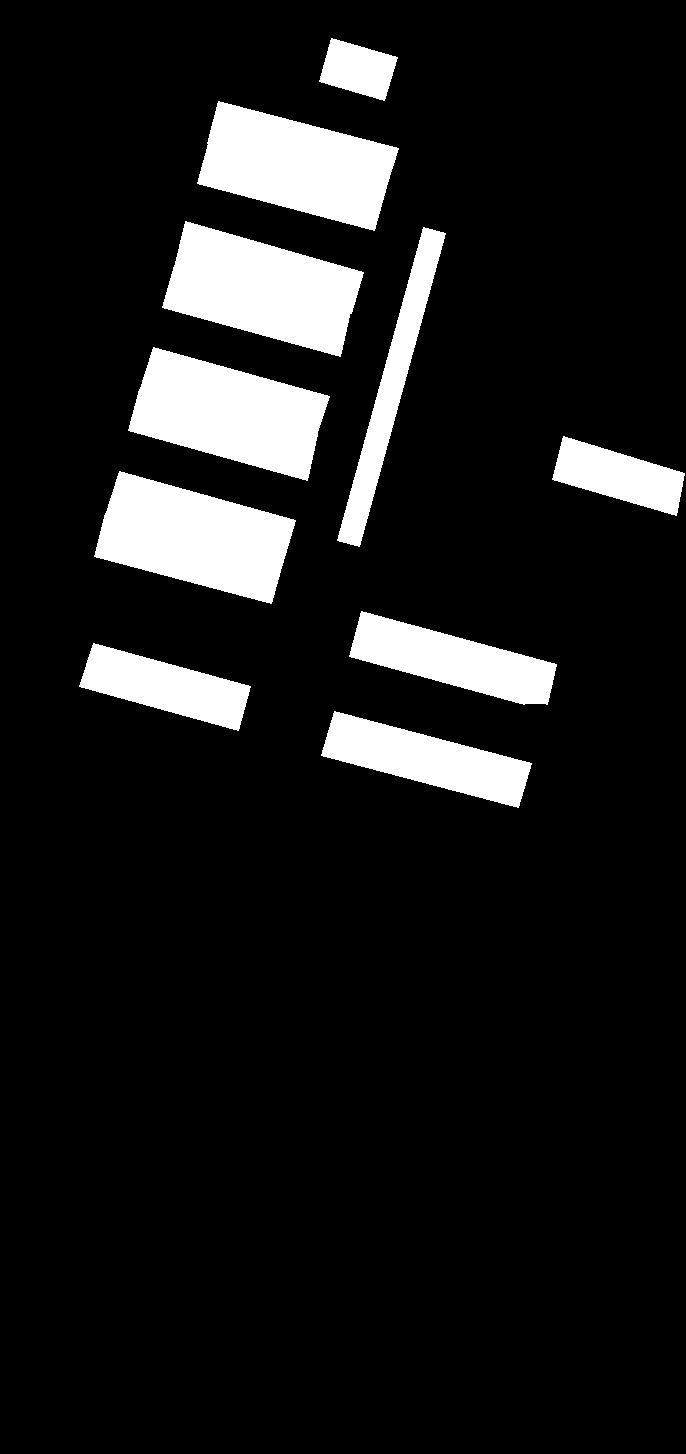parkingspot: (337, 227, 445, 546), (321, 711, 531, 807), (349, 611, 556, 704), (105, 471, 295, 564), (174, 221, 363, 314), (139, 347, 329, 438), (128, 389, 317, 480), (162, 265, 350, 356), (94, 513, 283, 603), (197, 143, 387, 230), (207, 101, 398, 186), (79, 643, 250, 730), (552, 436, 684, 515), (319, 38, 397, 100)
